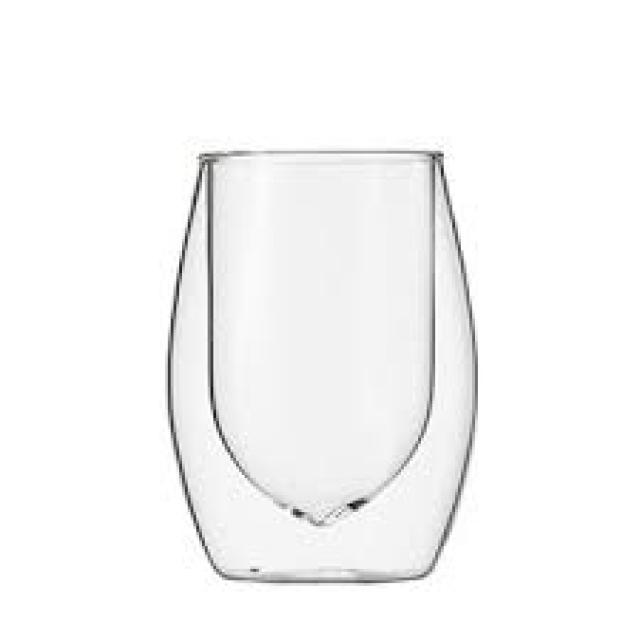glass: (168, 151, 475, 577)
